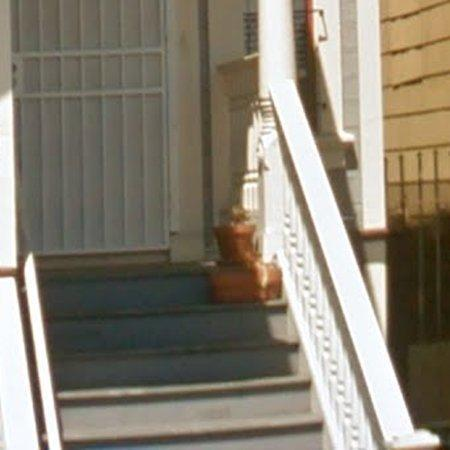stairs: (40, 270, 324, 450)
